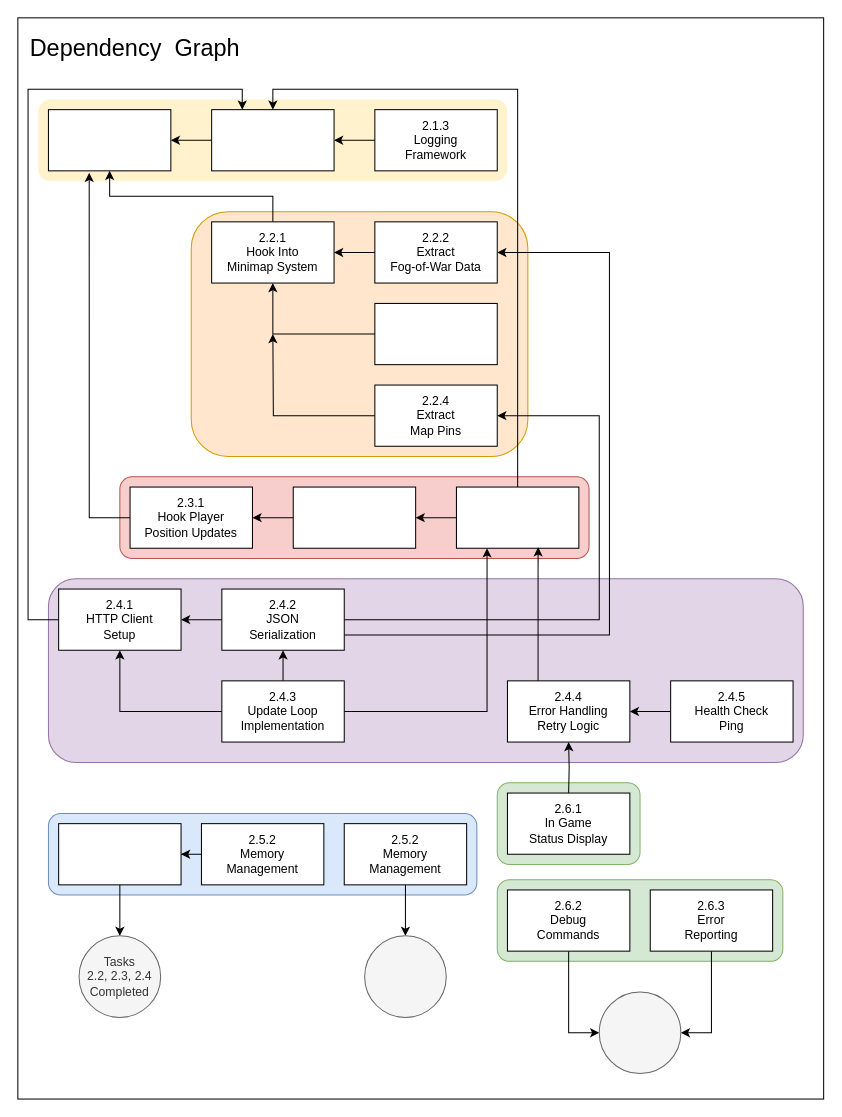
Some shapes in this 842 by 1117 pixel diagram are drawn without their labels. The centre of each missing label's shape, as x and y in pixels:
2.1.1 Init Project: the point at 109,140
2.1.2 Config System: the point at 272,140
2.2.3 Extract World Metadata: the point at 435,333
2.3.2 Track Multiple Players: the point at 354,517
2.3.3 Idle Detection: the point at 517,517
2.5.1 Performance Profiling: the point at 119,854
All Tasks Completed: the point at 639,1032
Task 2.4 Completed: the point at 405,976
